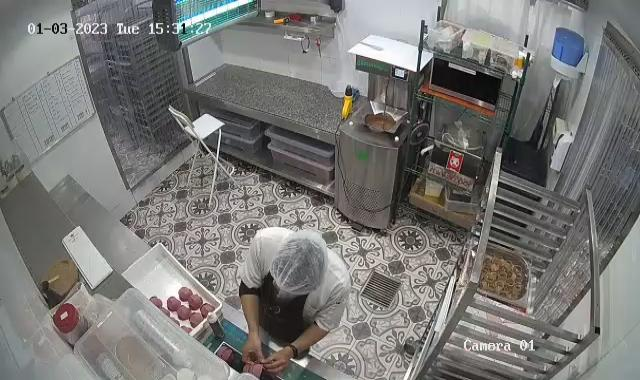hairnet: (272, 225, 328, 296)
